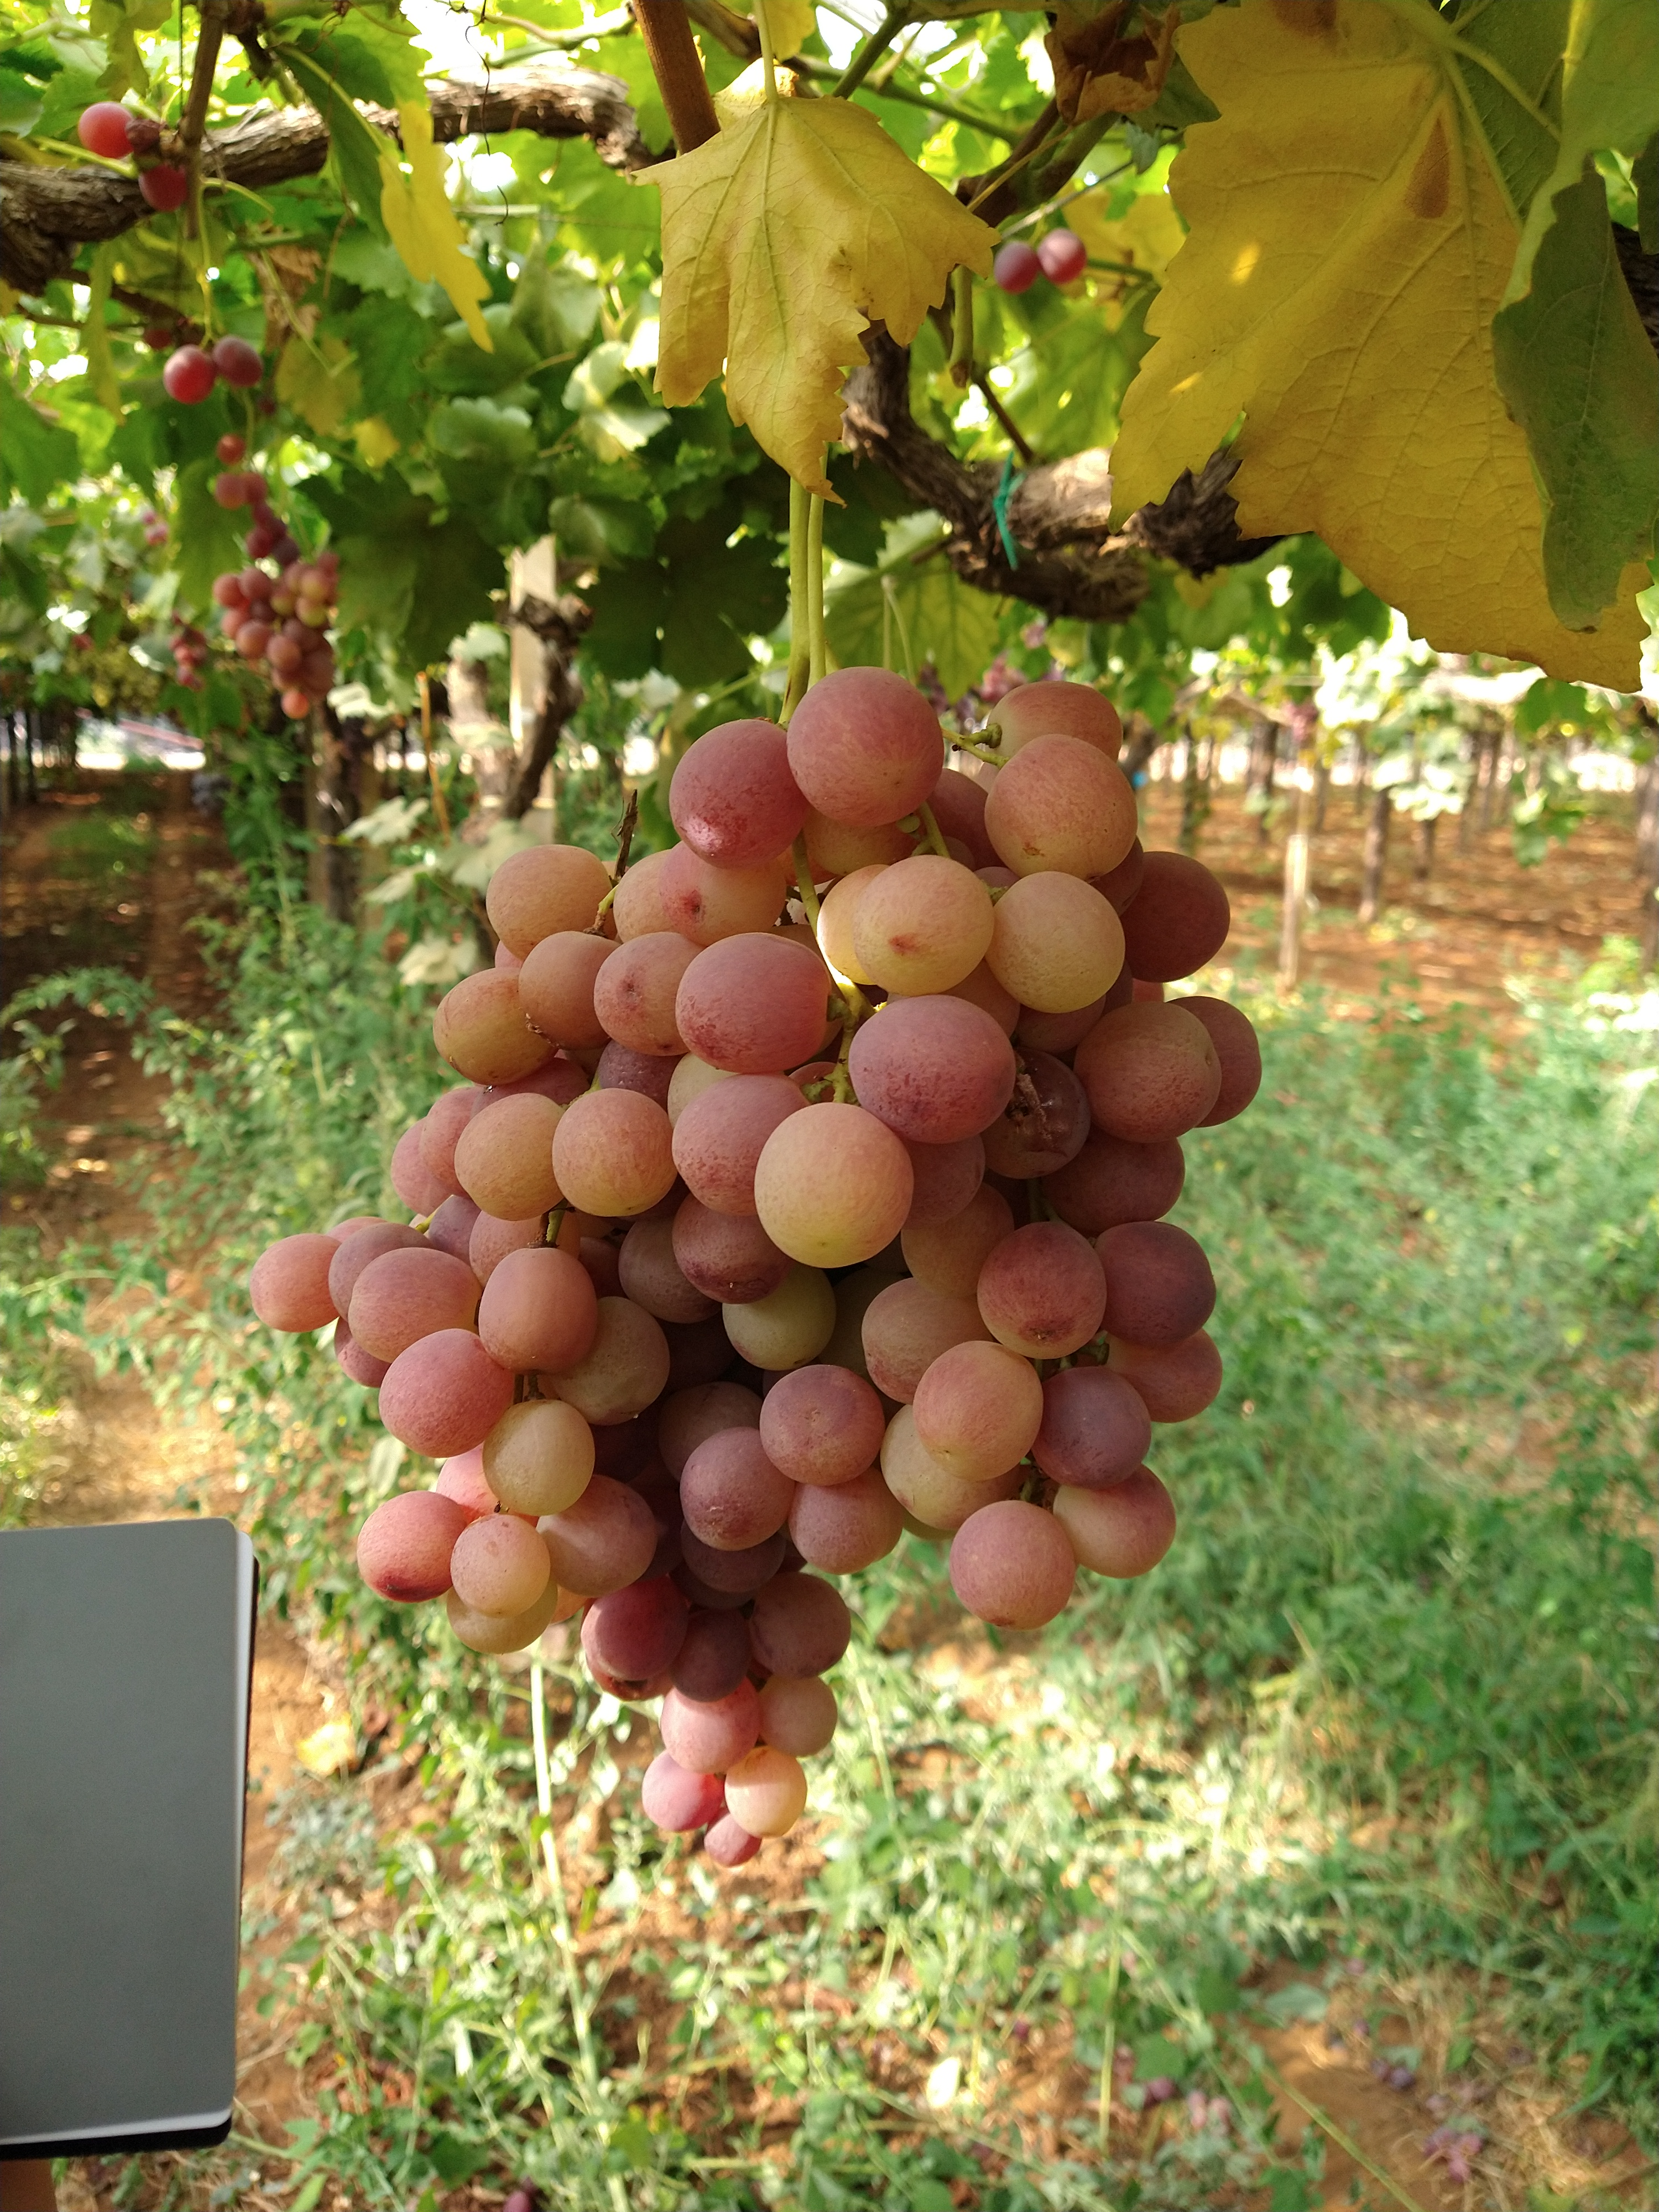acino: (755, 1103, 915, 1270), (786, 662, 943, 833), (845, 995, 1018, 1144), (981, 733, 1140, 880), (676, 932, 835, 1075), (1077, 996, 1225, 1144), (986, 871, 1127, 1017), (856, 855, 995, 996), (669, 719, 802, 867), (910, 1339, 1044, 1480), (976, 1216, 1107, 1359), (378, 1327, 518, 1456), (671, 1075, 796, 1217), (948, 1498, 1075, 1632), (756, 1362, 889, 1487), (349, 1242, 481, 1366), (549, 1294, 671, 1428), (1091, 1221, 1216, 1350), (552, 1089, 678, 1216), (479, 1242, 601, 1371), (484, 845, 613, 960), (1033, 1367, 1154, 1487), (432, 965, 547, 1090), (680, 1426, 793, 1554), (1124, 848, 1230, 982), (547, 1472, 660, 1595), (451, 1092, 559, 1219), (857, 1282, 983, 1390), (1058, 1467, 1176, 1580), (483, 1399, 596, 1515), (992, 1052, 1093, 1181), (596, 930, 697, 1055), (356, 1493, 467, 1604), (723, 1268, 836, 1374), (660, 850, 786, 946), (518, 928, 613, 1052), (671, 1205, 789, 1303), (448, 1512, 551, 1618), (579, 1581, 687, 1679), (1046, 1144, 1183, 1219), (789, 1486, 904, 1575), (751, 1578, 852, 1676), (249, 1233, 333, 1332), (1143, 1325, 1223, 1423), (660, 1693, 758, 1773), (669, 1609, 753, 1702), (908, 1134, 988, 1230), (725, 1750, 807, 1839), (760, 1677, 836, 1756), (640, 1761, 721, 1834), (704, 1811, 762, 1864)
